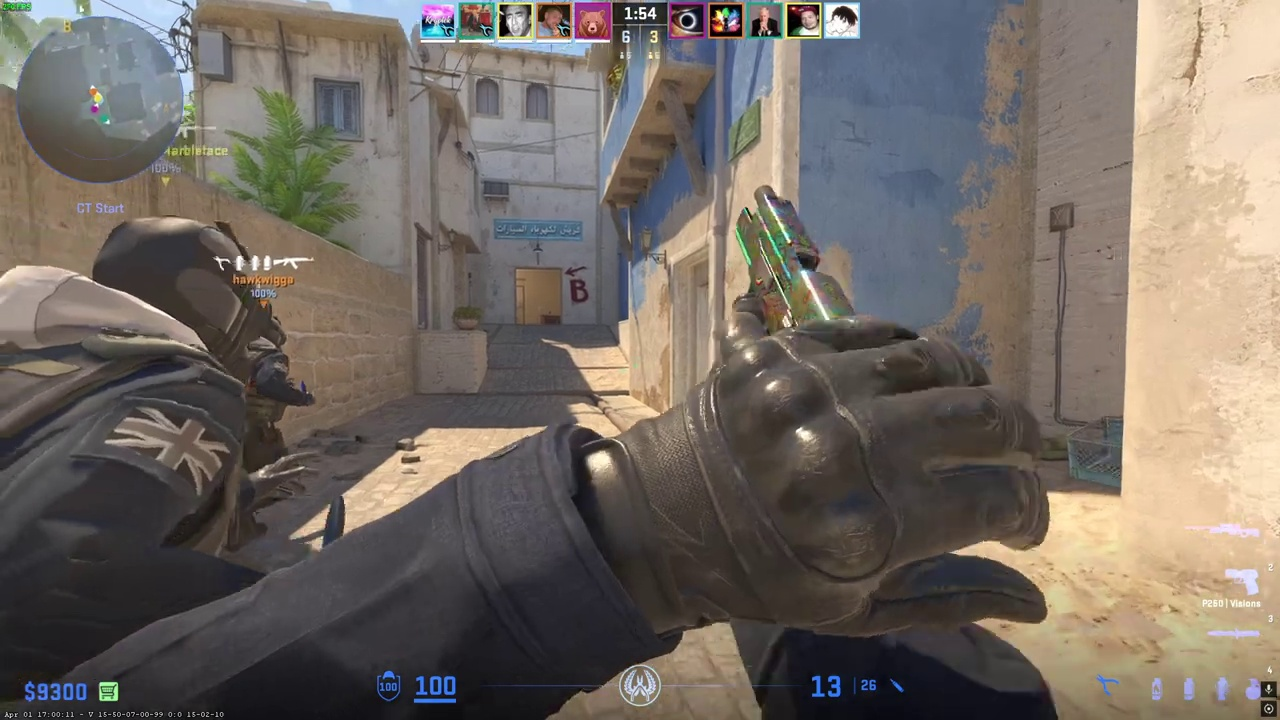CT: (0, 218, 263, 720), (238, 318, 303, 543)
